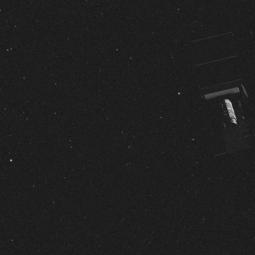soho: (183, 27, 255, 167)
